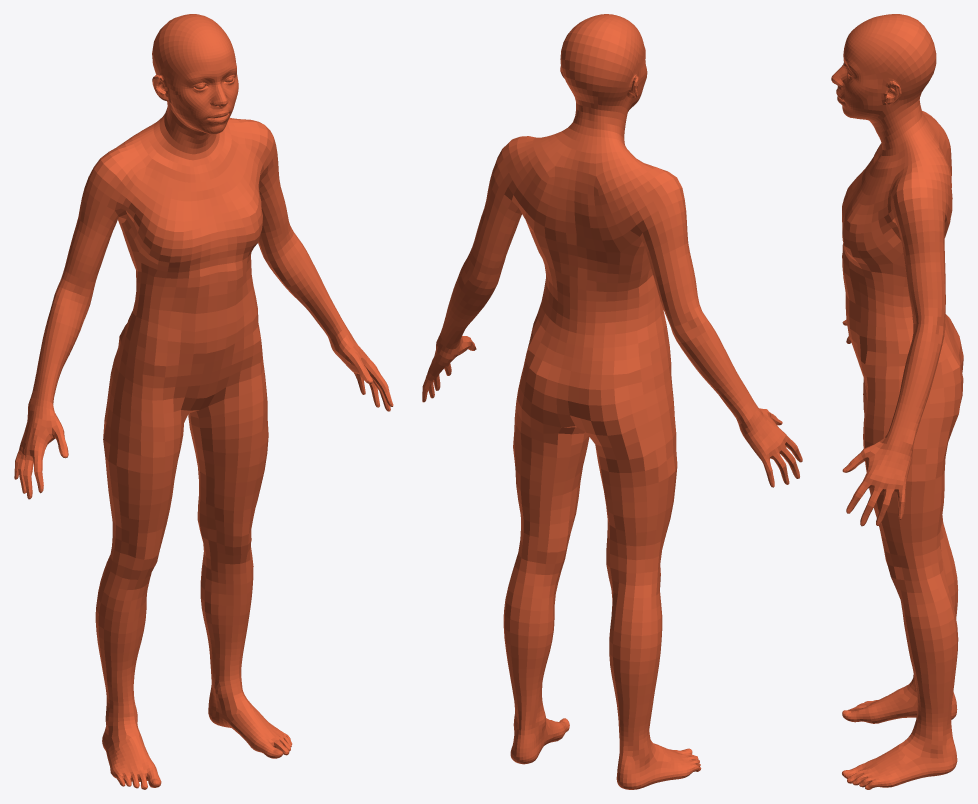
Rendered from mannequin.glb.
The picture shows the model from 3 angles, left to right: view 1: azimuth 30°, elevation 25°; view 2: azimuth 150°, elevation 25°; view 3: azimuth 270°, elevation 25°; orthographic projection.
Parts seen in each view (by area): view 1: GEO-body_female_realistic.002; view 2: GEO-body_female_realistic.002; view 3: GEO-body_female_realistic.002.
Boxes of the visible parts, x1,y1,x2,y2 form: GEO-body_female_realistic.002: (14, 14, 393, 789); GEO-body_female_realistic.002: (422, 14, 802, 789); GEO-body_female_realistic.002: (831, 14, 963, 789).
Size of the model in its own units: 0.8422 by 1.64 by 0.269.
